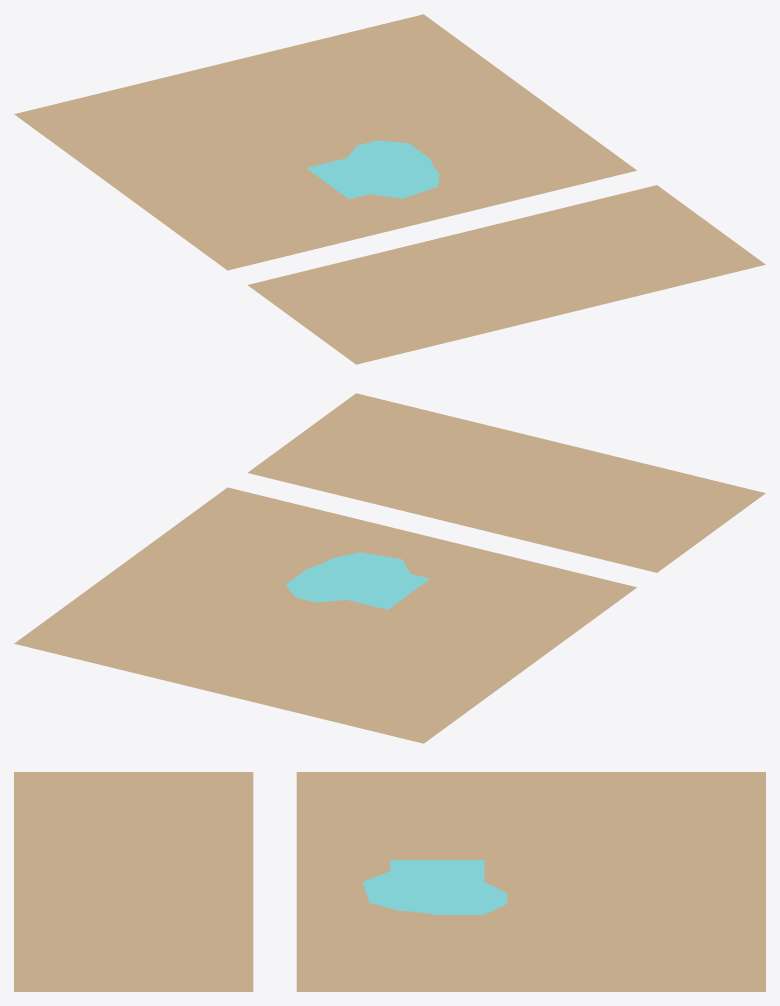
Rendered from land-plane.glb.
3 renders of one model, top to bottom at view 1: azimuth 30°, elevation 25°; view 2: azimuth 150°, elevation 25°; view 3: azimuth 270°, elevation 25°, orthographic. The views are drawn at different scales.
Visible parts, largest first — view 1: land-back, land-front; view 2: land-back, land-front; view 3: land-back, land-front.
Part boxes in pixels (box(x1,y1,x2,y2)): land-back: box(14, 14, 636, 270); land-front: box(248, 185, 765, 364); land-back: box(14, 487, 636, 743); land-front: box(247, 393, 765, 572); land-back: box(296, 772, 765, 991); land-front: box(14, 772, 253, 991).
Bounding box in the file's own units: 360 × 5.9e-06 × 521.
Materials: 1 (1 with a texture image).
